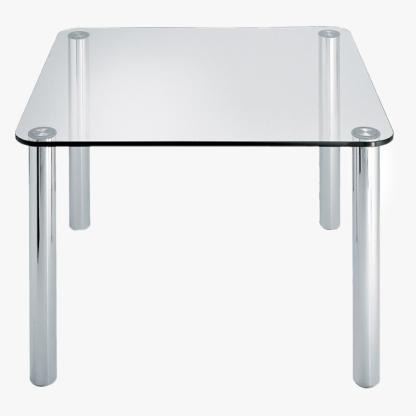table: (13, 25, 394, 388)
